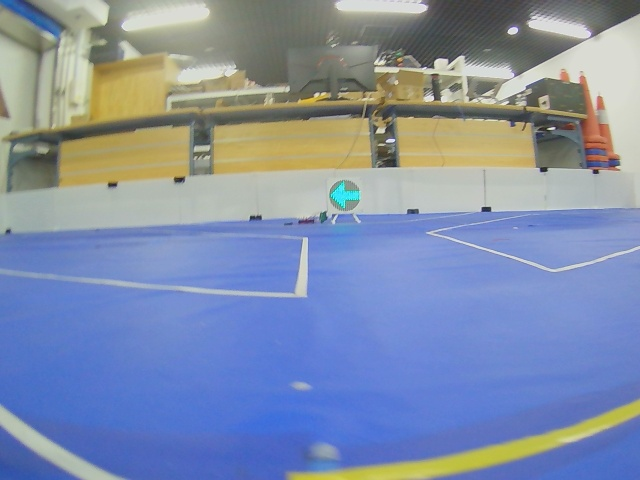left_green: (329, 180, 361, 212)
